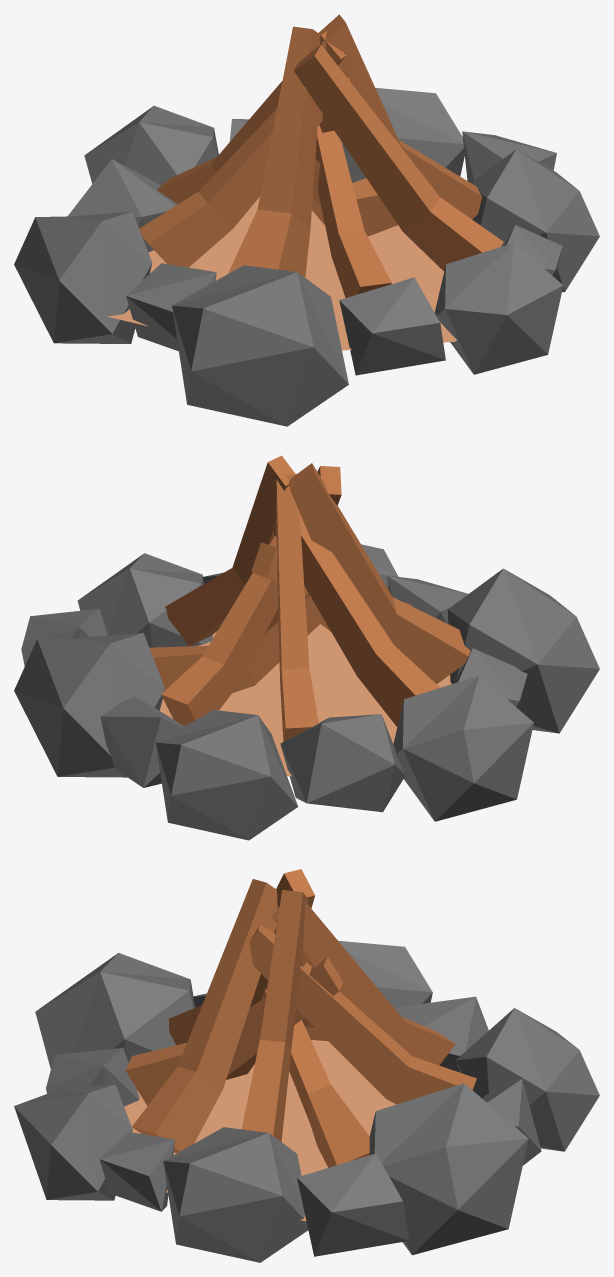
File: Campfire.fbx
The picture shows the model from 3 angles, top to bottom: view 1: azimuth 30°, elevation 25°; view 2: azimuth 150°, elevation 25°; view 3: azimuth 270°, elevation 25°; orthographic projection. The views are drawn at different scales.
Visible parts, largest first — view 1: Campfire; view 2: Campfire; view 3: Campfire.
Part boxes in pixels (left/top/right/bottom): Campfire: left=14, top=14, right=599, bottom=426; Campfire: left=14, top=455, right=599, bottom=840; Campfire: left=14, top=869, right=599, bottom=1262.
Bounding box in the file's own units: 0.5559 × 0.312 × 0.5507.
